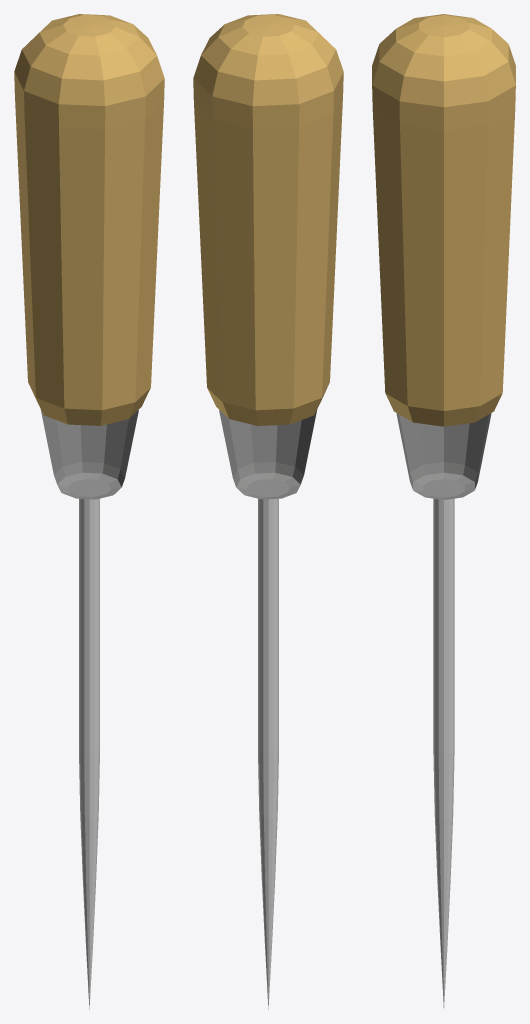
File: cleaning-rod.glb
3 renders of one model, left to right at view 1: azimuth 30°, elevation 25°; view 2: azimuth 150°, elevation 25°; view 3: azimuth 270°, elevation 25°, orthographic.
Parts seen in each view (by area): view 1: Lathe, Lathe.2, Lathe.1; view 2: Lathe, Lathe.2, Lathe.1; view 3: Lathe, Lathe.2, Lathe.1.
Part boxes in pixels (x1=…): Lathe: x1=14, y1=14, x2=164, y2=425; Lathe.2: x1=79, y1=498, x2=99, y2=1009; Lathe.1: x1=40, y1=409, x2=138, y2=499; Lathe: x1=193, y1=14, x2=343, y2=425; Lathe.2: x1=258, y1=498, x2=278, y2=1009; Lathe.1: x1=219, y1=409, x2=317, y2=499; Lathe: x1=372, y1=14, x2=515, y2=426; Lathe.2: x1=433, y1=498, x2=454, y2=1007; Lathe.1: x1=396, y1=413, x2=491, y2=499.
Bounding box in the file's own units: 58.37 × 419 × 55.51.
